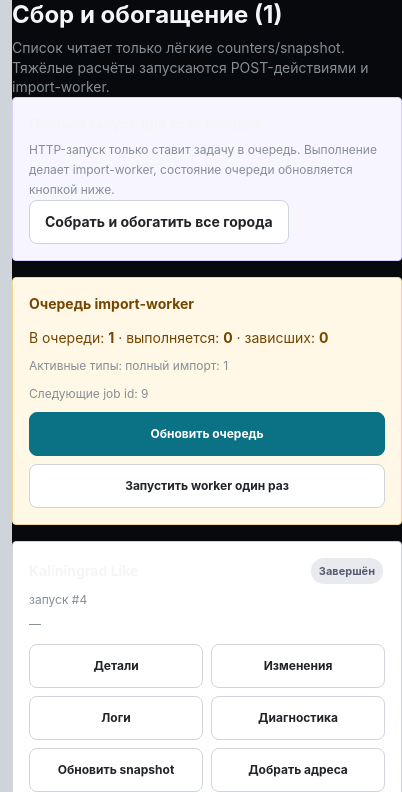
Test: AdminImportJobsPage import-worker queue controls › shows a stalled background photo task without hiding the healthy main import status
This screenshot has width=402, height=792.
Click the button "Детали".
click(116, 666)  # box [29, 644, 203, 688]
(page scrolled)
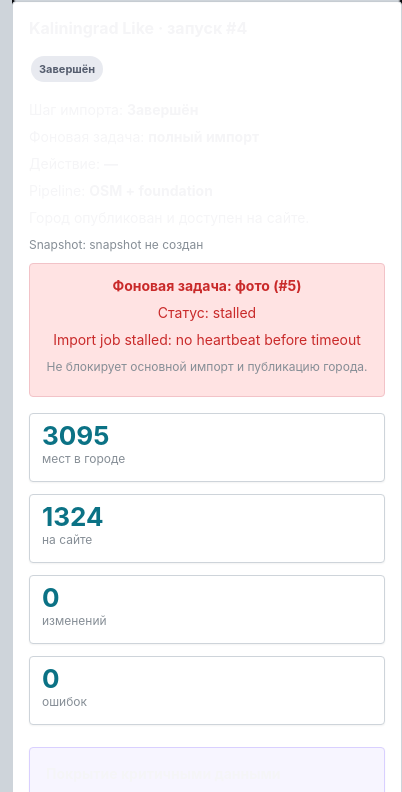
Expected: the element with test id "background-task-status" shows "фото", [235, 277, 270, 294]
Expected: the element with test id "background-task-status" shows "#5", [29, 263, 385, 397]
Expected: the element with test id "background-task-status" shows "stalled", [213, 304, 256, 321]
